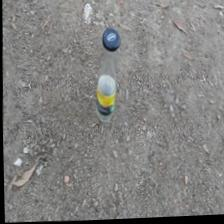glass: (96, 27, 120, 190), (96, 28, 120, 114)
